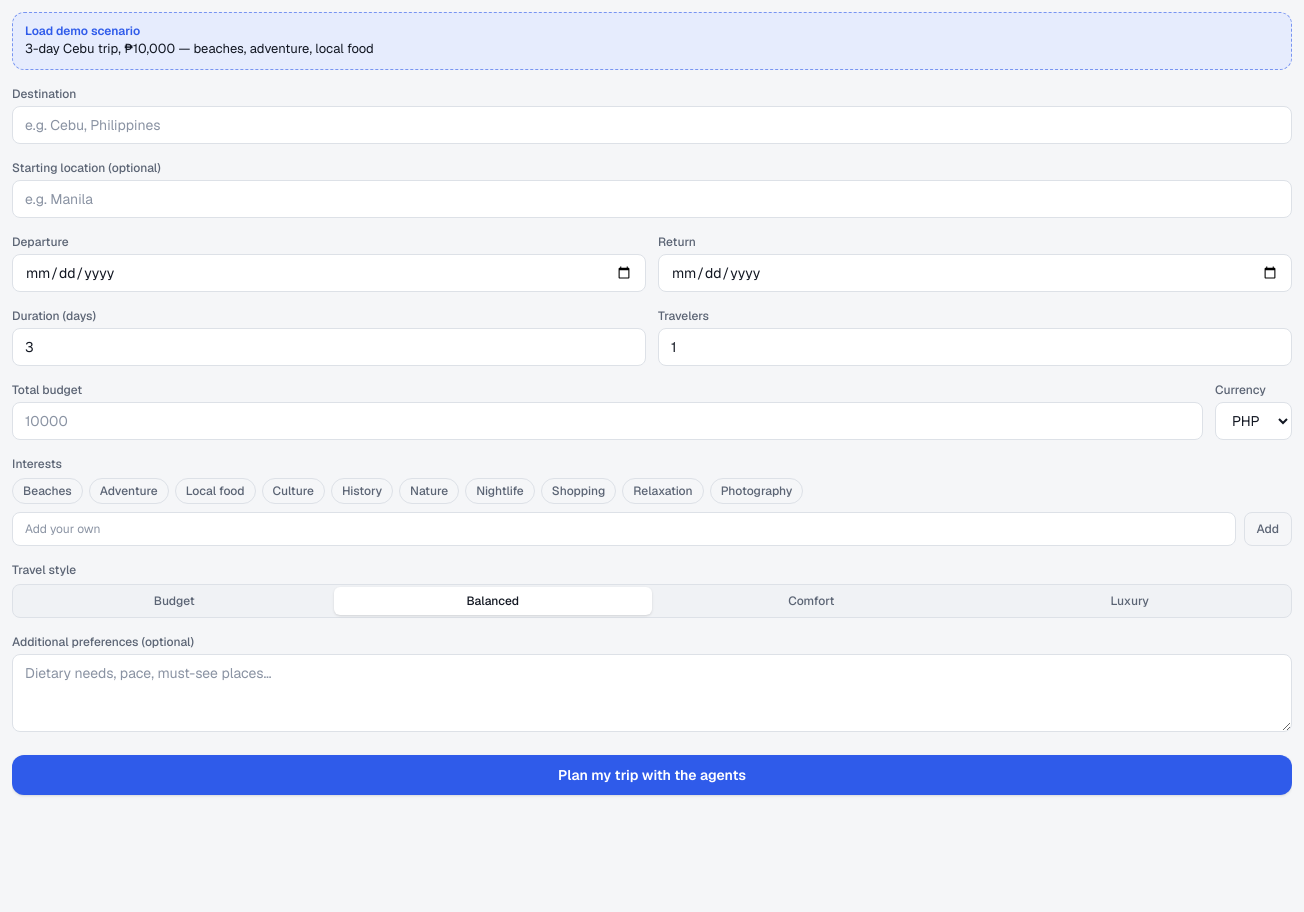
Test: TripForm › loads the demo scenario and submits the expected payload
This screenshot has width=1304, height=912.
Later steps or results of the test are not shown.
Click the button "Load demo scenario" at coordinates (83, 31), box left=12, top=12, right=1292, bottom=70
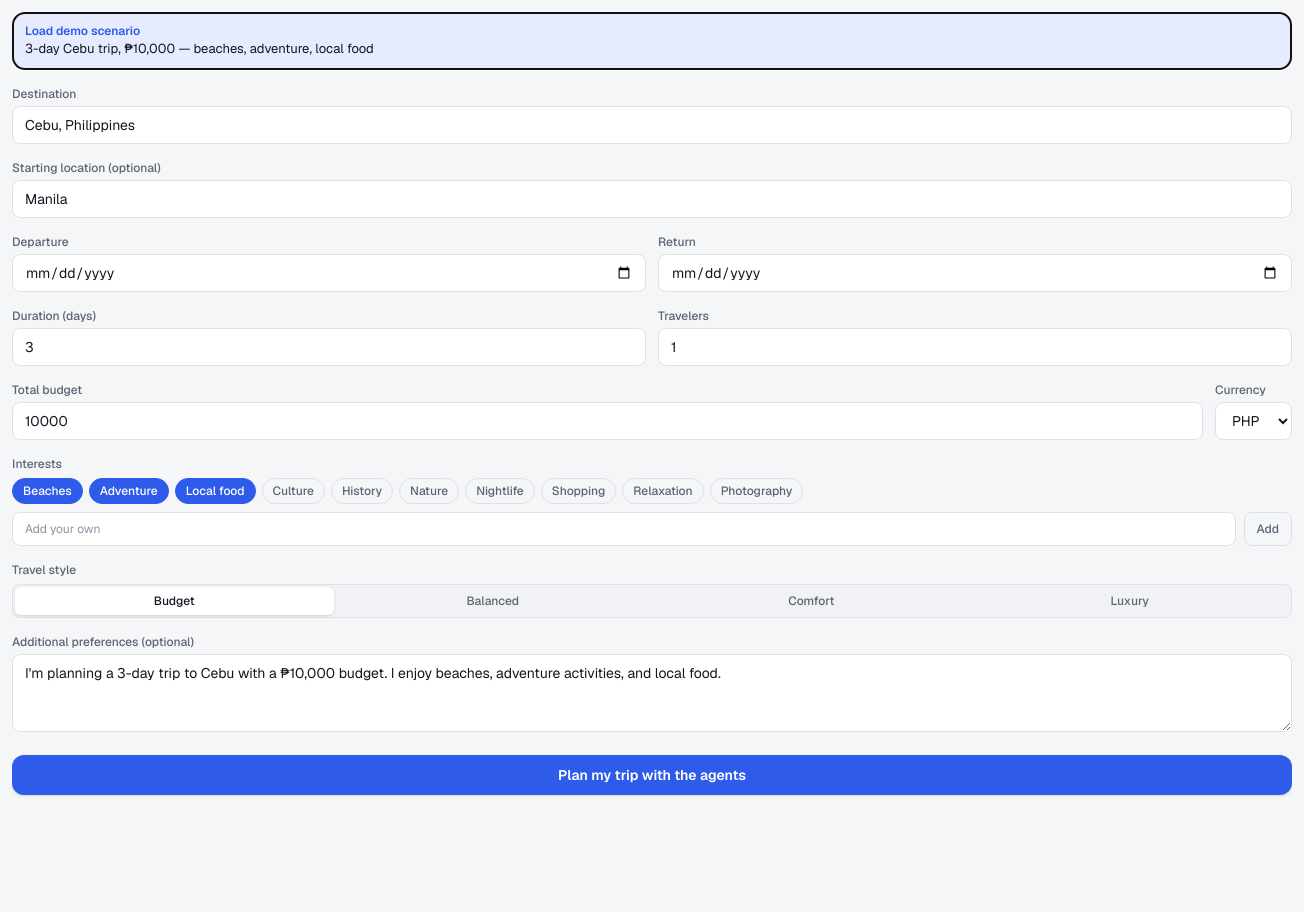
Expected: the field labelled "Destination" holds "Cebu, Philippines", left=12, top=106, right=1292, bottom=144
